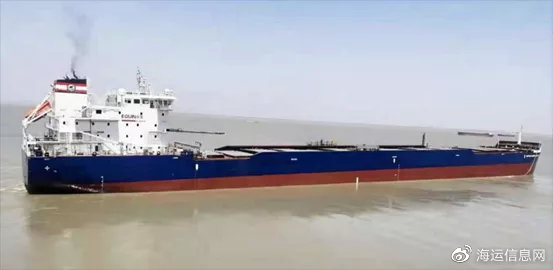Cargoship: (14, 49, 543, 192)
